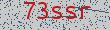3: (35, 1, 51, 28)
7: (21, 1, 36, 27)
r: (78, 3, 94, 29)
s: (47, 1, 63, 26), (64, 4, 79, 29)
